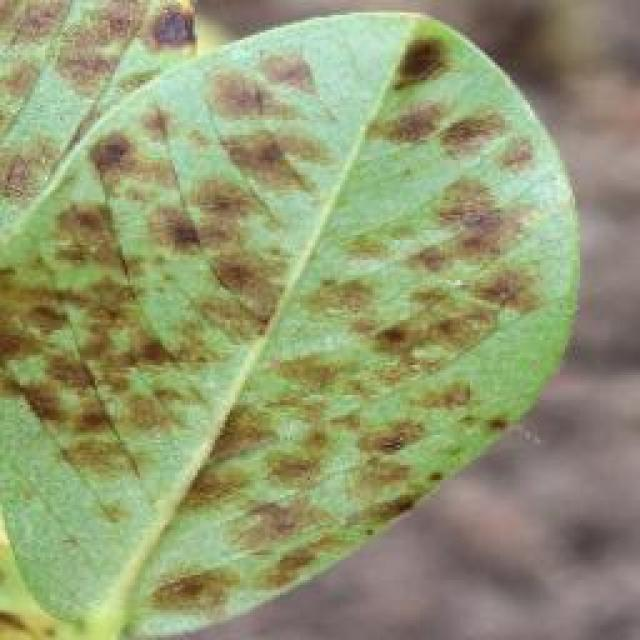Whitefly: (0, 0, 528, 620)
